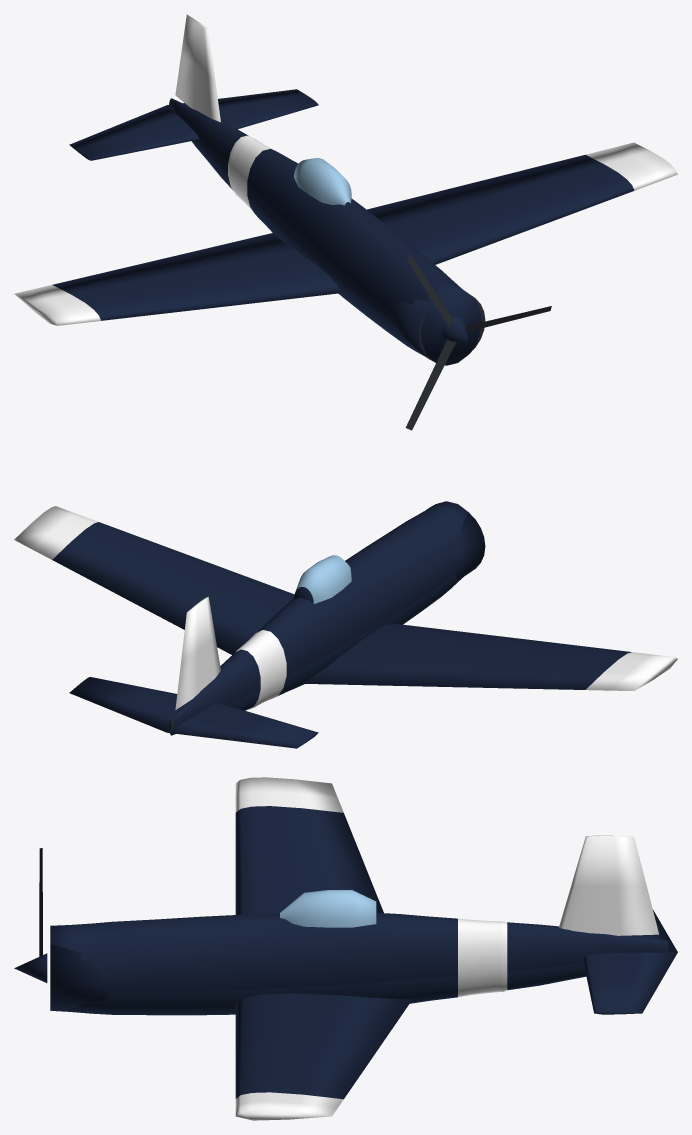
The picture shows the model from 3 angles, top to bottom: view 1: azimuth 30°, elevation 25°; view 2: azimuth 150°, elevation 25°; view 3: azimuth 270°, elevation 25°; orthographic projection. The views are drawn at different scales.
Parts seen in each view (by area): view 1: body, prop; view 2: body; view 3: body, prop.
Part boxes in pixels (<box>): body: <box>14,14,677,365</box>; prop: <box>405,254,551,430</box>; body: <box>14,501,677,748</box>; body: <box>50,777,677,1120</box>; prop: <box>14,848,47,982</box>.
Size of the model in its own units: 13.06 by 4.18 by 11.01.
